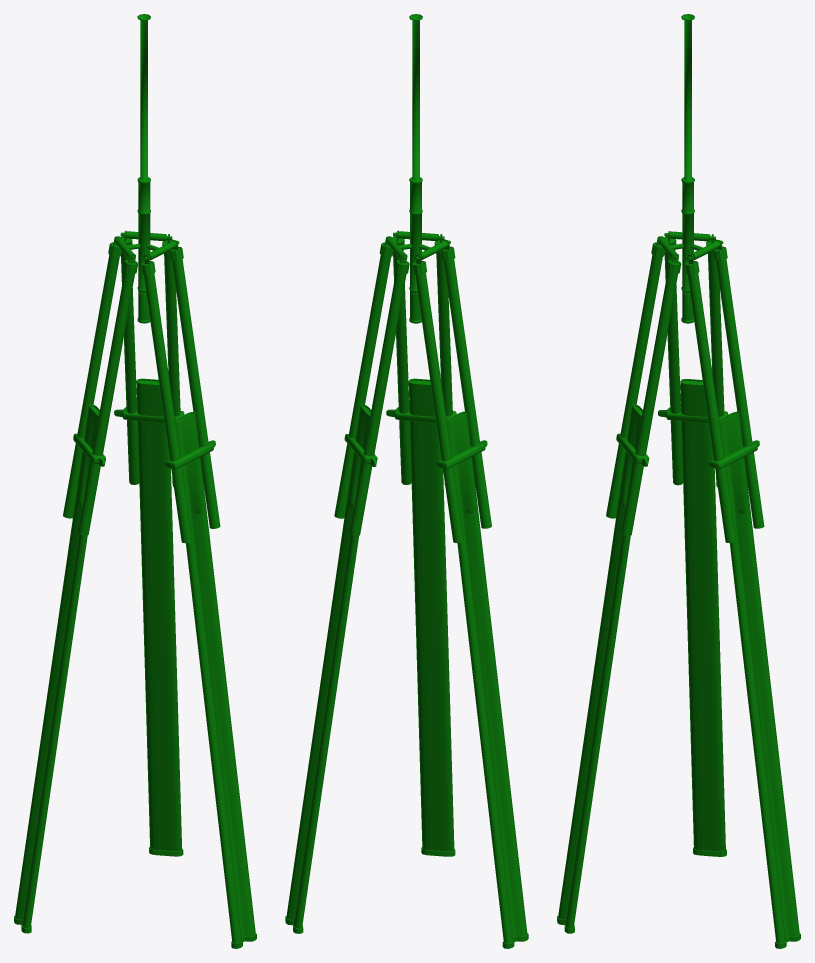
Rendered from Lampbase.FBX.
3 renders of one model, left to right at view 1: azimuth 30°, elevation 25°; view 2: azimuth 150°, elevation 25°; view 3: azimuth 270°, elevation 25°, orthographic.
Visible parts, largest first — view 1: Lamp_Base_UVs; view 2: Lamp_Base_UVs; view 3: Lamp_Base_UVs.
Part boxes in pixels (x1,y1,x2,y2): Lamp_Base_UVs: [14, 14, 256, 948]; Lamp_Base_UVs: [285, 14, 528, 948]; Lamp_Base_UVs: [557, 14, 800, 948].
Bounding box in the file's own units: 0.3548 × 1.51 × 0.3731.
